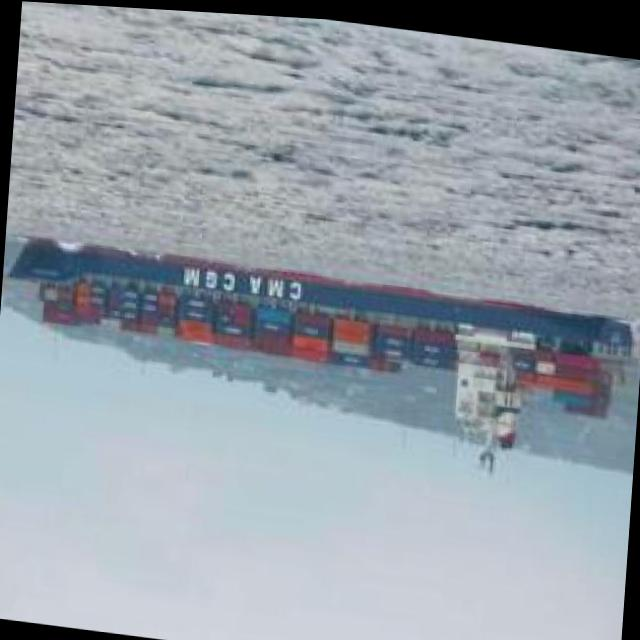ship2: (2, 236, 635, 471)
